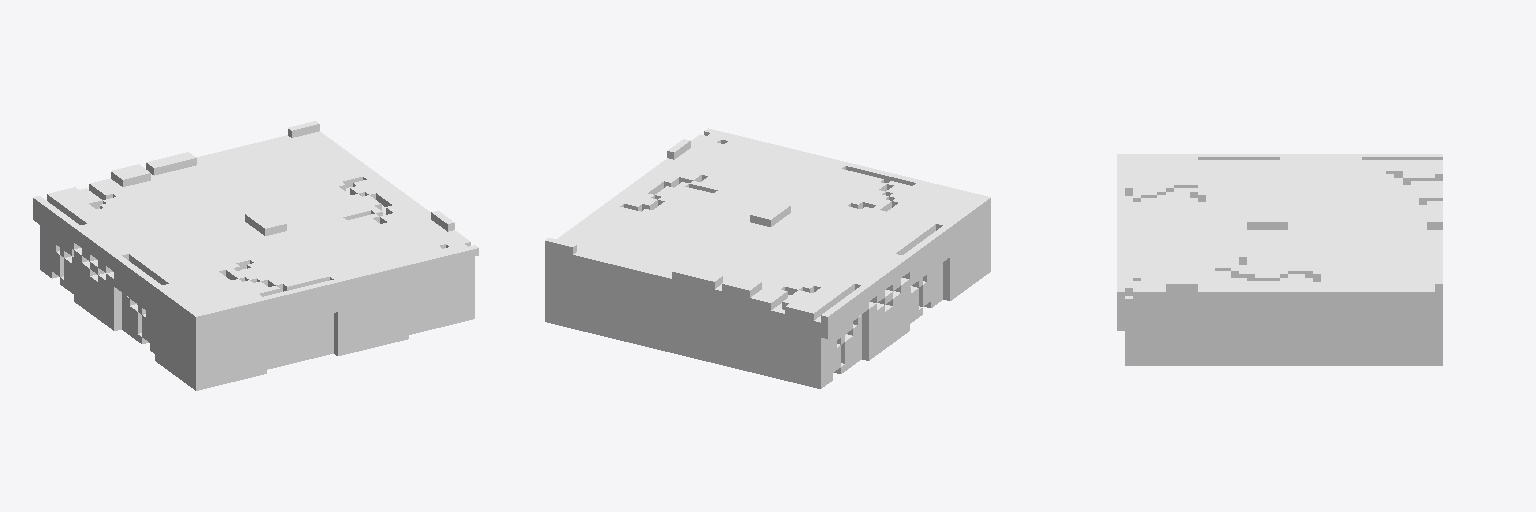
File: desert_dungeon_floor.obj
3 renders of one model, left to right at view 1: azimuth 30°, elevation 25°; view 2: azimuth 150°, elevation 25°; view 3: azimuth 270°, elevation 25°, orthographic.
Parts seen in each view (by area): view 1: object 1; view 2: object 1; view 3: object 1.
Boxes of the visible parts, x1,y1,x2,y2 form: object 1: [33, 121, 478, 390]; object 1: [545, 128, 990, 388]; object 1: [1117, 154, 1442, 365].
Size of the model in its own units: 4 by 1.1 by 4.